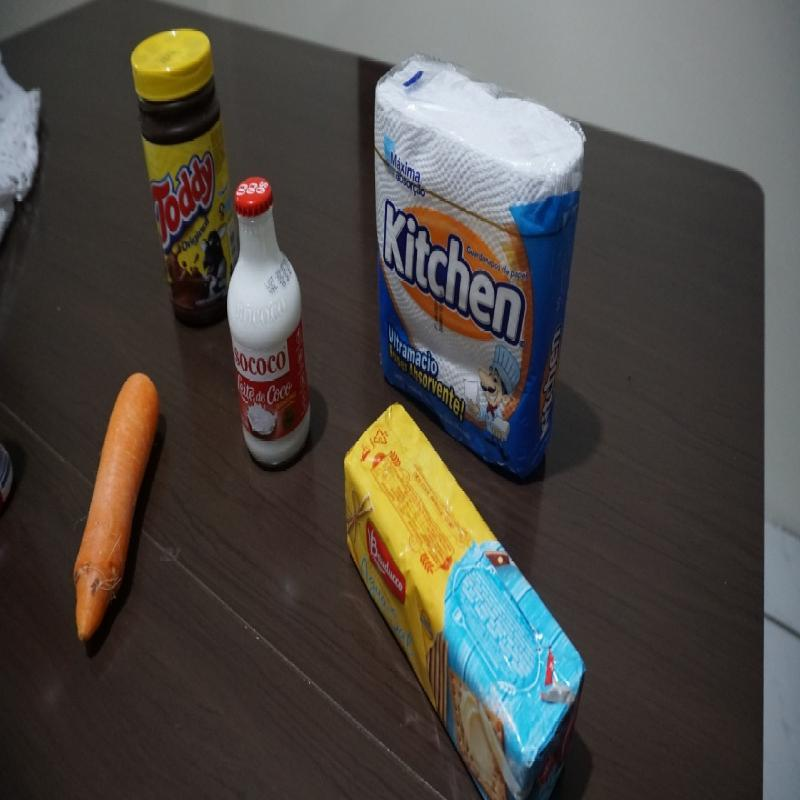Carrot: (68, 371, 164, 659)
Chocolate Powder: (127, 26, 226, 334)
Coconut Milk: (225, 176, 312, 472)
Cracker: (340, 399, 588, 799)
Napkin: (370, 51, 590, 483)
